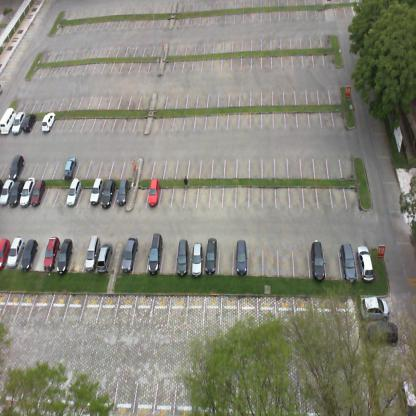car: (338, 241, 358, 285), (367, 322, 398, 348), (356, 242, 374, 283), (360, 296, 389, 321), (146, 232, 162, 276), (309, 238, 325, 281), (43, 236, 60, 272), (19, 238, 38, 270), (122, 236, 138, 274), (85, 233, 100, 273), (56, 238, 73, 272), (64, 177, 82, 208), (401, 376, 415, 414), (8, 235, 24, 268), (234, 238, 248, 275), (176, 238, 189, 277), (100, 178, 115, 211), (8, 178, 24, 208), (97, 242, 113, 272), (205, 237, 217, 276), (20, 177, 35, 208), (30, 178, 45, 208), (191, 242, 203, 278), (8, 154, 24, 181), (116, 178, 130, 207), (147, 178, 160, 209), (89, 178, 103, 206), (2, 106, 16, 134), (63, 155, 77, 181), (0, 178, 13, 206), (0, 236, 10, 270), (40, 112, 56, 133), (21, 113, 37, 133), (12, 112, 26, 134)
